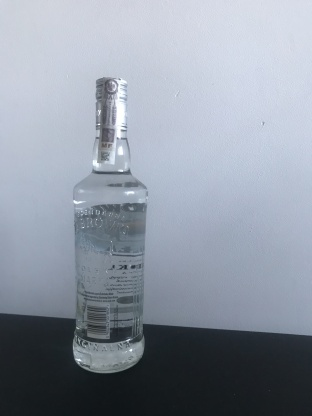nakretka: (93, 72, 129, 133)
